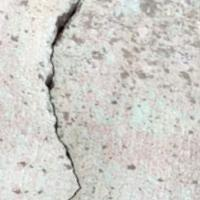crack: (35, 0, 96, 199)
